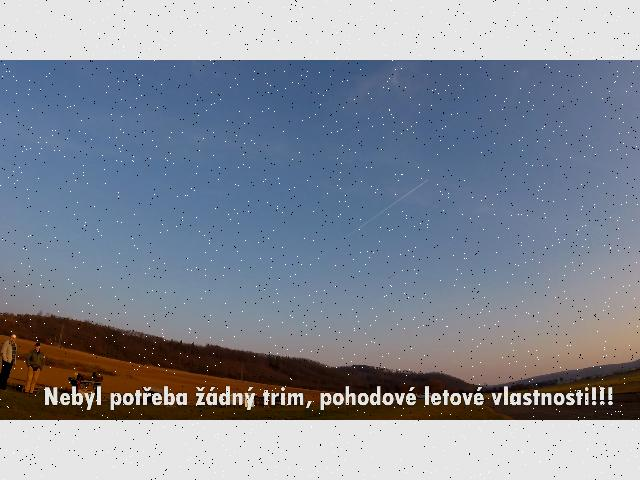Anti-Drone: (384, 271, 396, 283)
